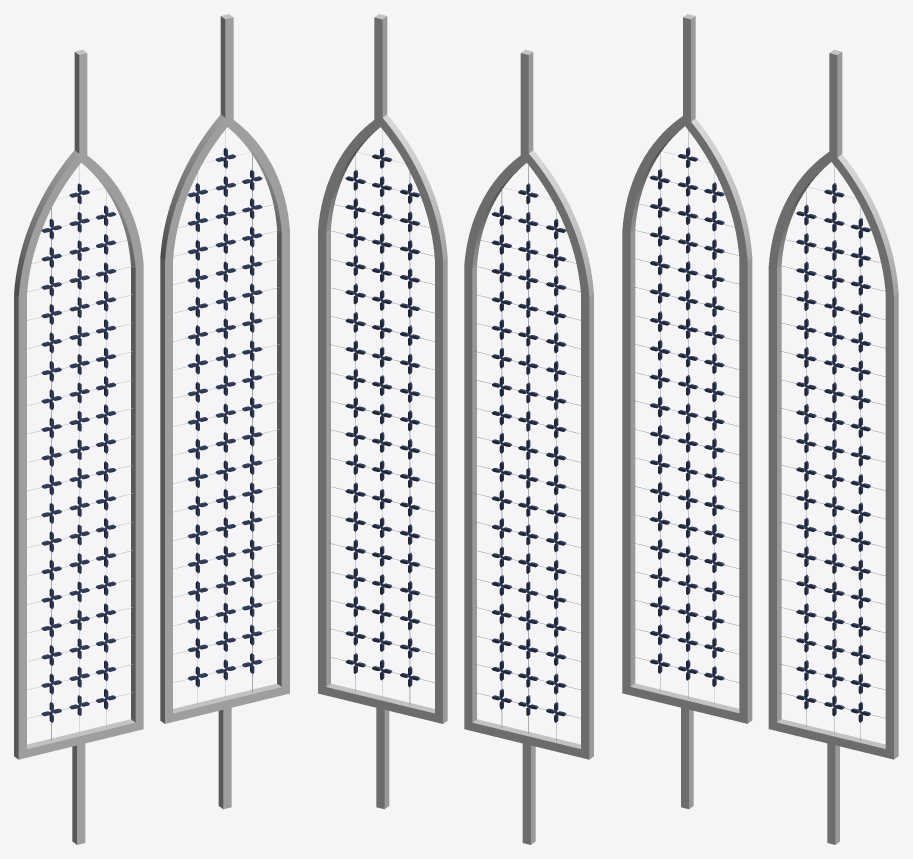
File: decorative_curtain.glb
3 renders of one model, left to right at view 1: azimuth 30°, elevation 25°; view 2: azimuth 150°, elevation 25°; view 3: azimuth 330°, elevation 25°, orthographic.
Parts seen in each view (by area): view 1: Group001, Group002, Loft002, Loft004, Layer:001, Loft001, Loft003, Layer:0; view 2: Group001, Group002, Loft004, Loft002, Layer:0, Layer:001, Loft001, Loft003; view 3: Group002, Group001, Loft001, Loft003, Loft004, Loft002, Layer:0, Layer:001.
Part boxes in pixels (<box>): Group001: <box>14,49,143,844</box>; Group002: <box>160,14,289,809</box>; Loft002: <box>14,150,83,296</box>; Loft004: <box>160,114,229,261</box>; Layer:001: <box>173,129,279,704</box>; Loft001: <box>81,155,143,268</box>; Loft003: <box>227,120,289,232</box>; Layer:0: <box>27,165,133,740</box>; Group001: <box>464,49,593,844</box>; Group002: <box>318,14,447,809</box>; Loft004: <box>380,114,447,261</box>; Loft002: <box>527,150,593,296</box>; Layer:0: <box>475,165,580,740</box>; Layer:001: <box>328,130,434,704</box>; Loft001: <box>464,151,531,268</box>; Loft003: <box>318,116,385,233</box>; Group002: <box>768,49,898,844</box>; Group001: <box>622,14,752,808</box>; Loft001: <box>685,118,752,260</box>; Loft003: <box>831,154,898,296</box>; Loft004: <box>768,152,833,267</box>; Loft002: <box>622,116,687,232</box>; Layer:0: <box>632,130,739,704</box>; Layer:001: <box>779,166,885,740</box>.
Bounding box in the file's own units: 0.9981 × 2.78 × 0.03.
